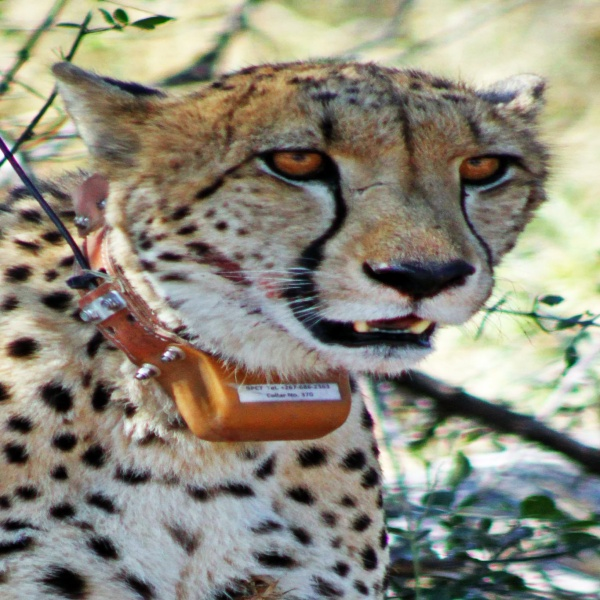Cheetah: (1, 53, 551, 600)
